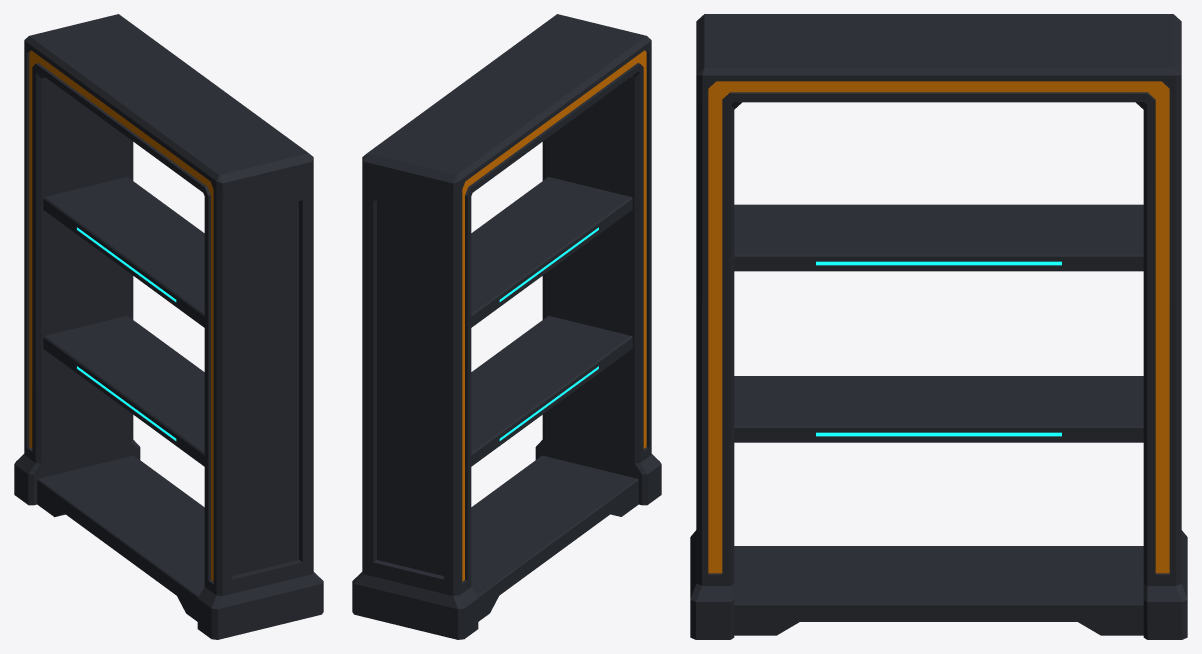
Rendered from SM_Tech Storage_Rack.fbx.
3 views of the same model, side by side, from view 1: azimuth 30°, elevation 25°; view 2: azimuth 150°, elevation 25°; view 3: azimuth 270°, elevation 25° (orthographic). The views are drawn at different scales.
Visible parts, largest first — view 1: SM_Tech Storage_Rack; view 2: SM_Tech Storage_Rack; view 3: SM_Tech Storage_Rack.
Boxes of the visible parts, x1,y1,x2,y2 form: SM_Tech Storage_Rack: (14,14,323,639); SM_Tech Storage_Rack: (352,14,661,639); SM_Tech Storage_Rack: (690,14,1187,639).
Size of the model in its own units: 46 by 180 by 144.
